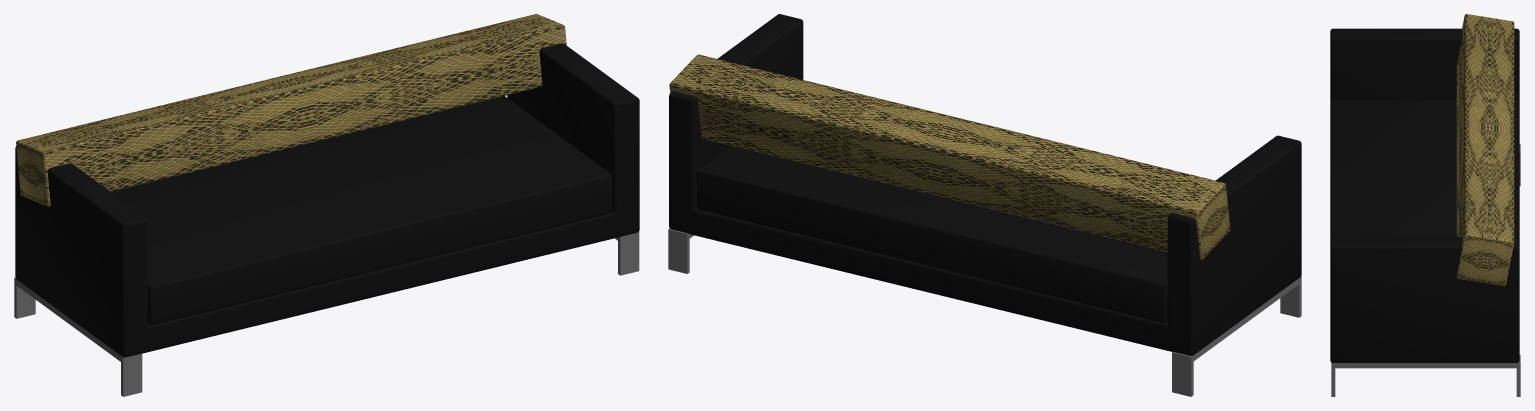
File: BHS04.obj
3 views of the same model, side by side, from view 1: azimuth 30°, elevation 25°; view 2: azimuth 150°, elevation 25°; view 3: azimuth 270°, elevation 25° (orthographic). The views are drawn at different scales.
Parts seen in each view (by area): view 1: ChamferBox004, ChamferBox003, ChamferBox005, LEG_Sofa_Box01; view 2: ChamferBox005, ChamferBox003, ChamferBox004, LEG_Sofa_Box01; view 3: ChamferBox003, ChamferBox004, ChamferBox005, LEG_Sofa_Box01.
Part boxes in pixels (x1,y1,x2,y2): ChamferBox004: (111,96,612,325); ChamferBox003: (15,43,639,357); ChamferBox005: (16,14,566,206); LEG_Sofa_Box01: (14,232,639,396); ChamferBox005: (669,54,1230,260); ChamferBox003: (669,14,1301,355); ChamferBox004: (697,145,1167,323); LEG_Sofa_Box01: (668,228,1301,396); ChamferBox003: (1330,28,1519,362); ChamferBox004: (1330,100,1518,238); ChamferBox005: (1456,14,1514,286); LEG_Sofa_Box01: (1331,144,1520,396).
Size of the model in its own units: 83 by 28.67 by 30.16.
3 materials, 1 textured.
